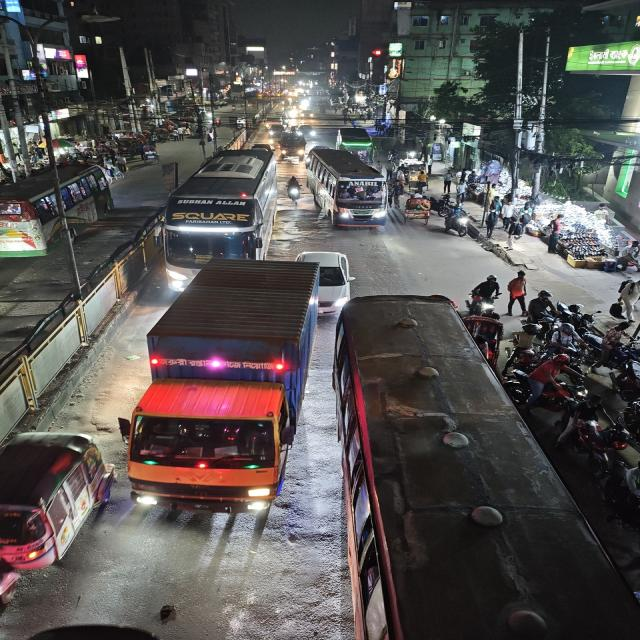bus: (339, 287, 627, 640), (158, 146, 281, 282), (0, 160, 115, 258), (305, 145, 392, 233)
car: (295, 248, 359, 308)
cng: (0, 429, 113, 576)
motorcycle: (511, 356, 578, 413), (572, 417, 624, 467), (285, 174, 303, 204)
pedestrian: (506, 266, 530, 316), (475, 272, 501, 306)
pickup_van: (277, 133, 307, 163)
rickshaw: (464, 312, 505, 350), (400, 192, 434, 228)
truck: (125, 263, 319, 517)
